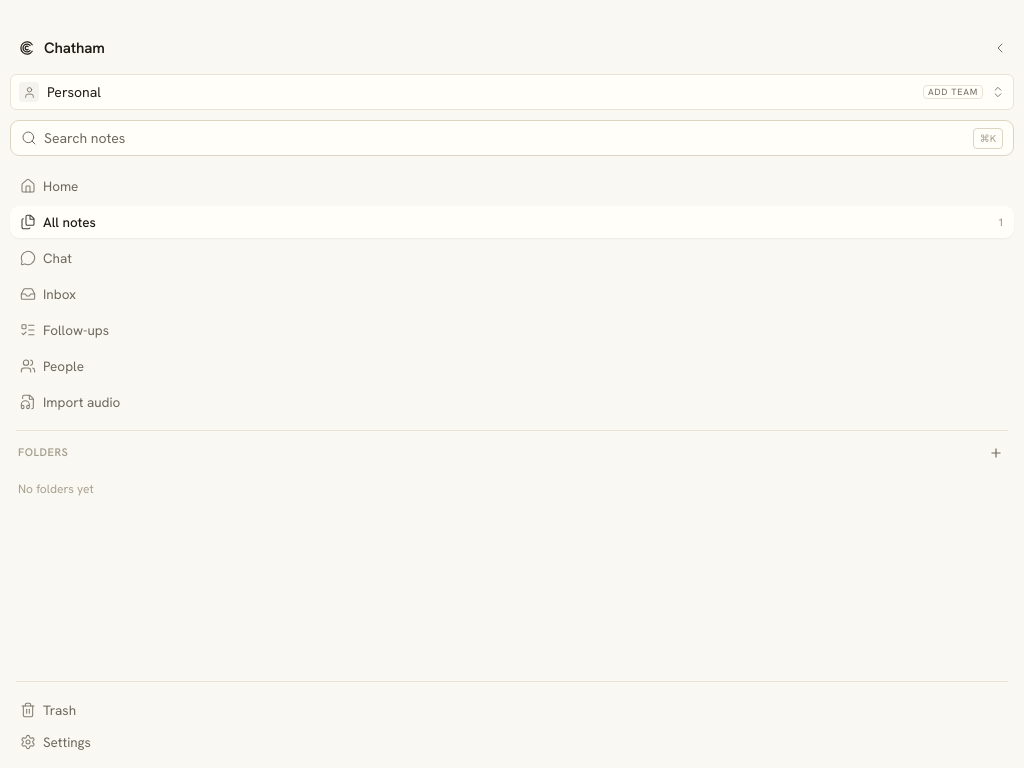
Test case: Sidebar search › matches a note whose term is only in its summary
Type "Fisher" into the field with placeholder "Search notes".
click(505, 138); type("Fisher")  # box [44,128,966,148]
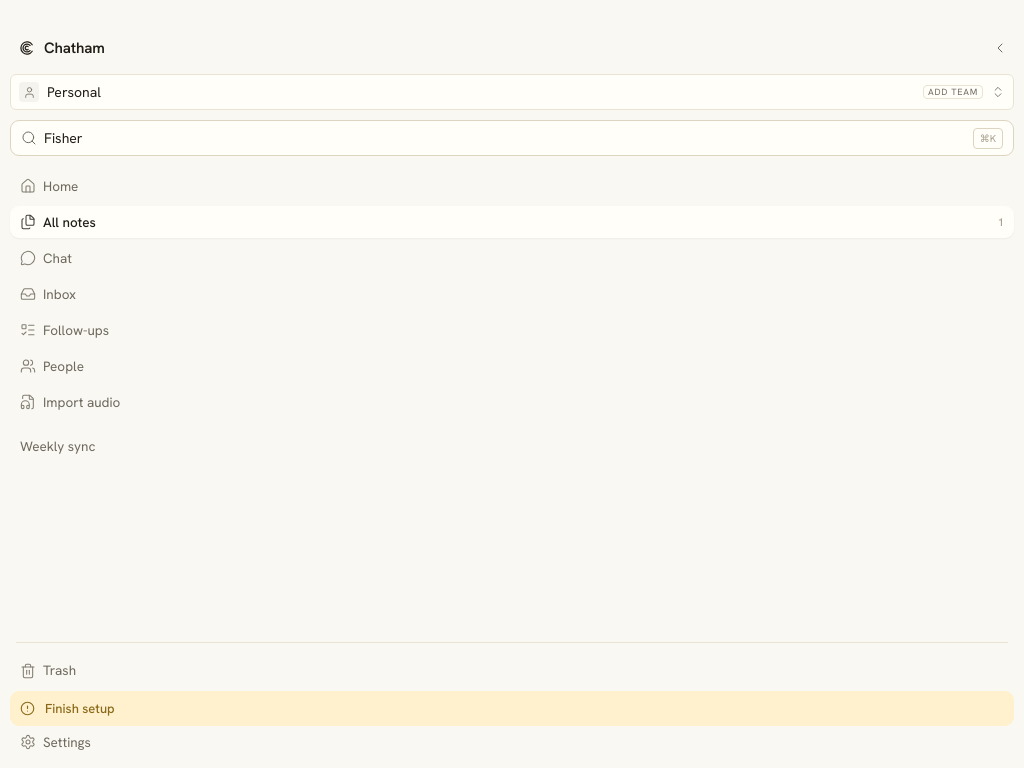
Expected: the text "Weekly sync" is shown, [20,437,95,455]
